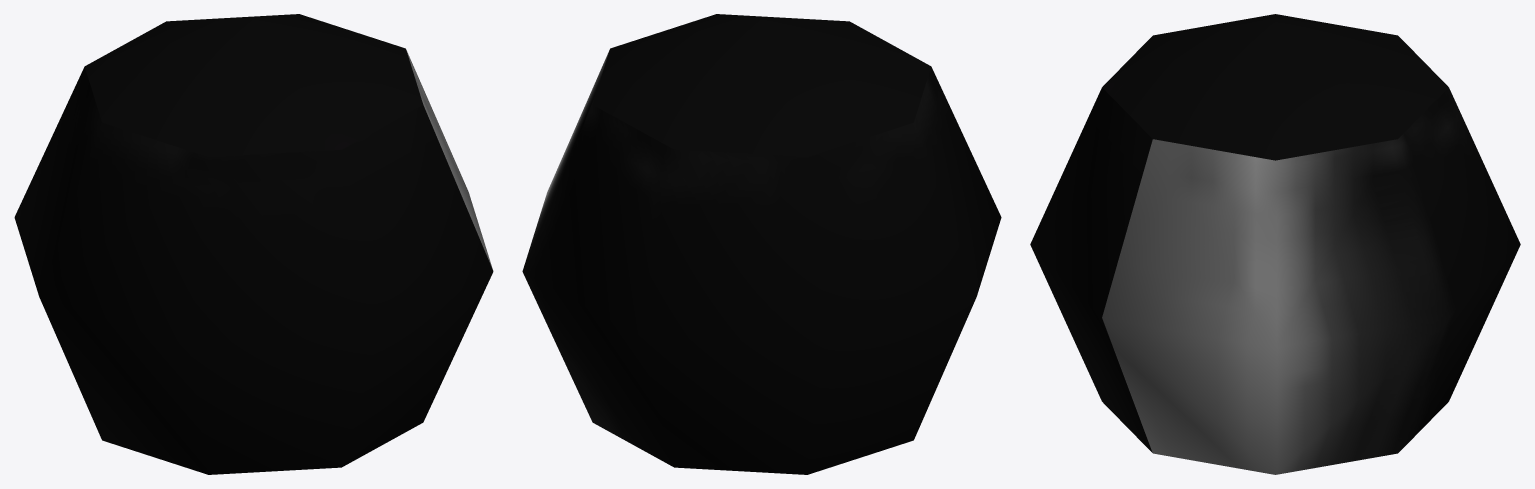
The model's file is shotgun_pellet.glb.
3 views of the same model, side by side, from view 1: azimuth 30°, elevation 25°; view 2: azimuth 150°, elevation 25°; view 3: azimuth 270°, elevation 25° (orthographic).
Parts seen in each view (by area): view 1: shotgun_pellet; view 2: shotgun_pellet; view 3: shotgun_pellet.
Part boxes in pixels (x1,y1,x2,y2): shotgun_pellet: (14,14,493,474); shotgun_pellet: (522,14,1001,474); shotgun_pellet: (1030,14,1520,474).
Size of the model in its own units: 0.00599 by 0.00599 by 0.00599.
Materials: 1 (1 with a texture image).
